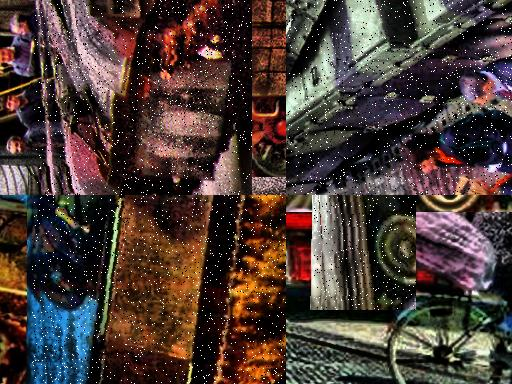tanks: (34, 196, 287, 384), (287, 1, 512, 196), (45, 1, 230, 196), (320, 196, 417, 311)
